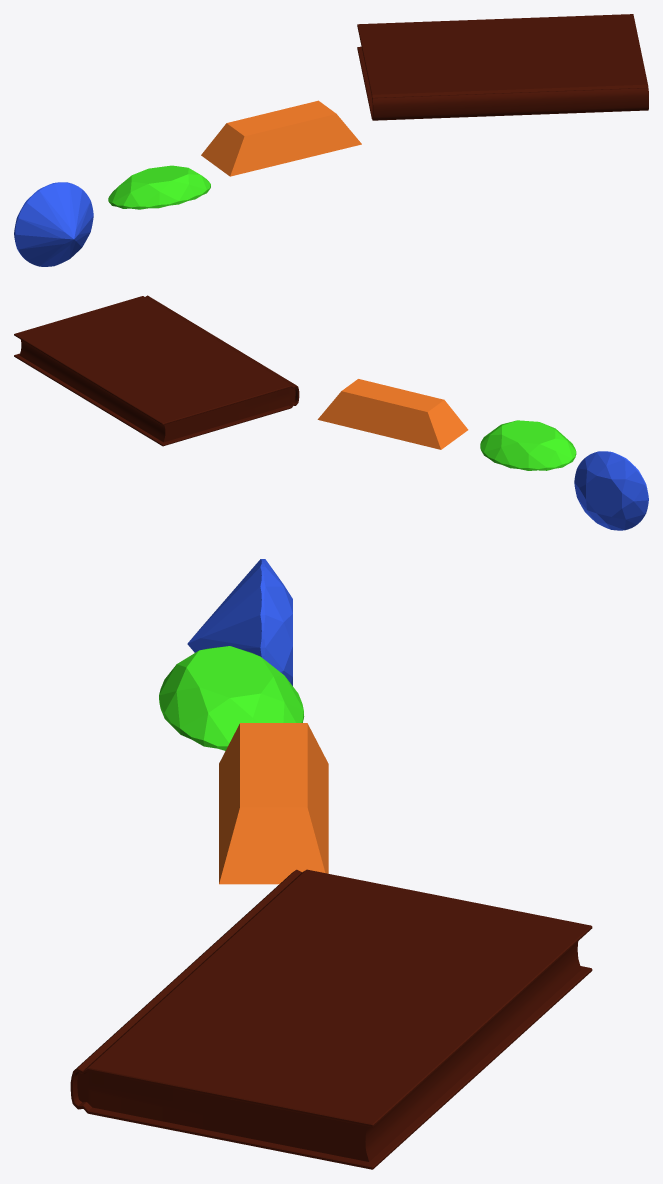
3 views of the same model, one above another, from view 1: azimuth 30°, elevation 25°; view 2: azimuth 150°, elevation 25°; view 3: azimuth 270°, elevation 25° (orthographic). The views are drawn at different scales.
Visible parts, largest first — view 1: Line015, Box001, 53, 123; view 2: Line015, Box001, 53, 123; view 3: Line015, Box001, 123, 53.
Part boxes in pixels (<box>): Line015: <box>357,14,648,120</box>; Box001: <box>201,100,361,176</box>; 53: <box>14,182,93,266</box>; 123: <box>108,165,210,209</box>; Line015: <box>14,295,299,446</box>; Box001: <box>317,379,468,449</box>; 53: <box>574,451,648,530</box>; 123: <box>480,420,576,470</box>; Line015: <box>70,869,592,1169</box>; Box001: <box>219,723,328,884</box>; 123: <box>159,646,304,750</box>; 53: <box>187,559,292,685</box>.
Bounding box in the file's own units: 110 × 14.38 × 40.88.
